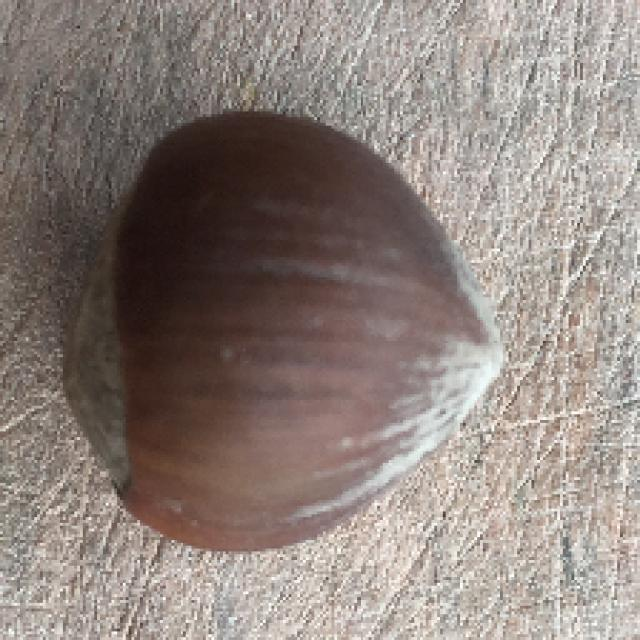damagedHazelnut: (64, 105, 506, 550)
